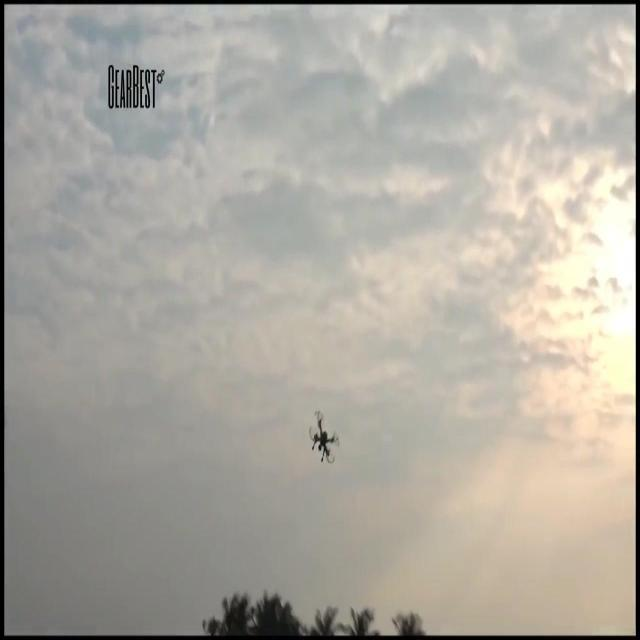drone: (304, 408, 343, 464)
